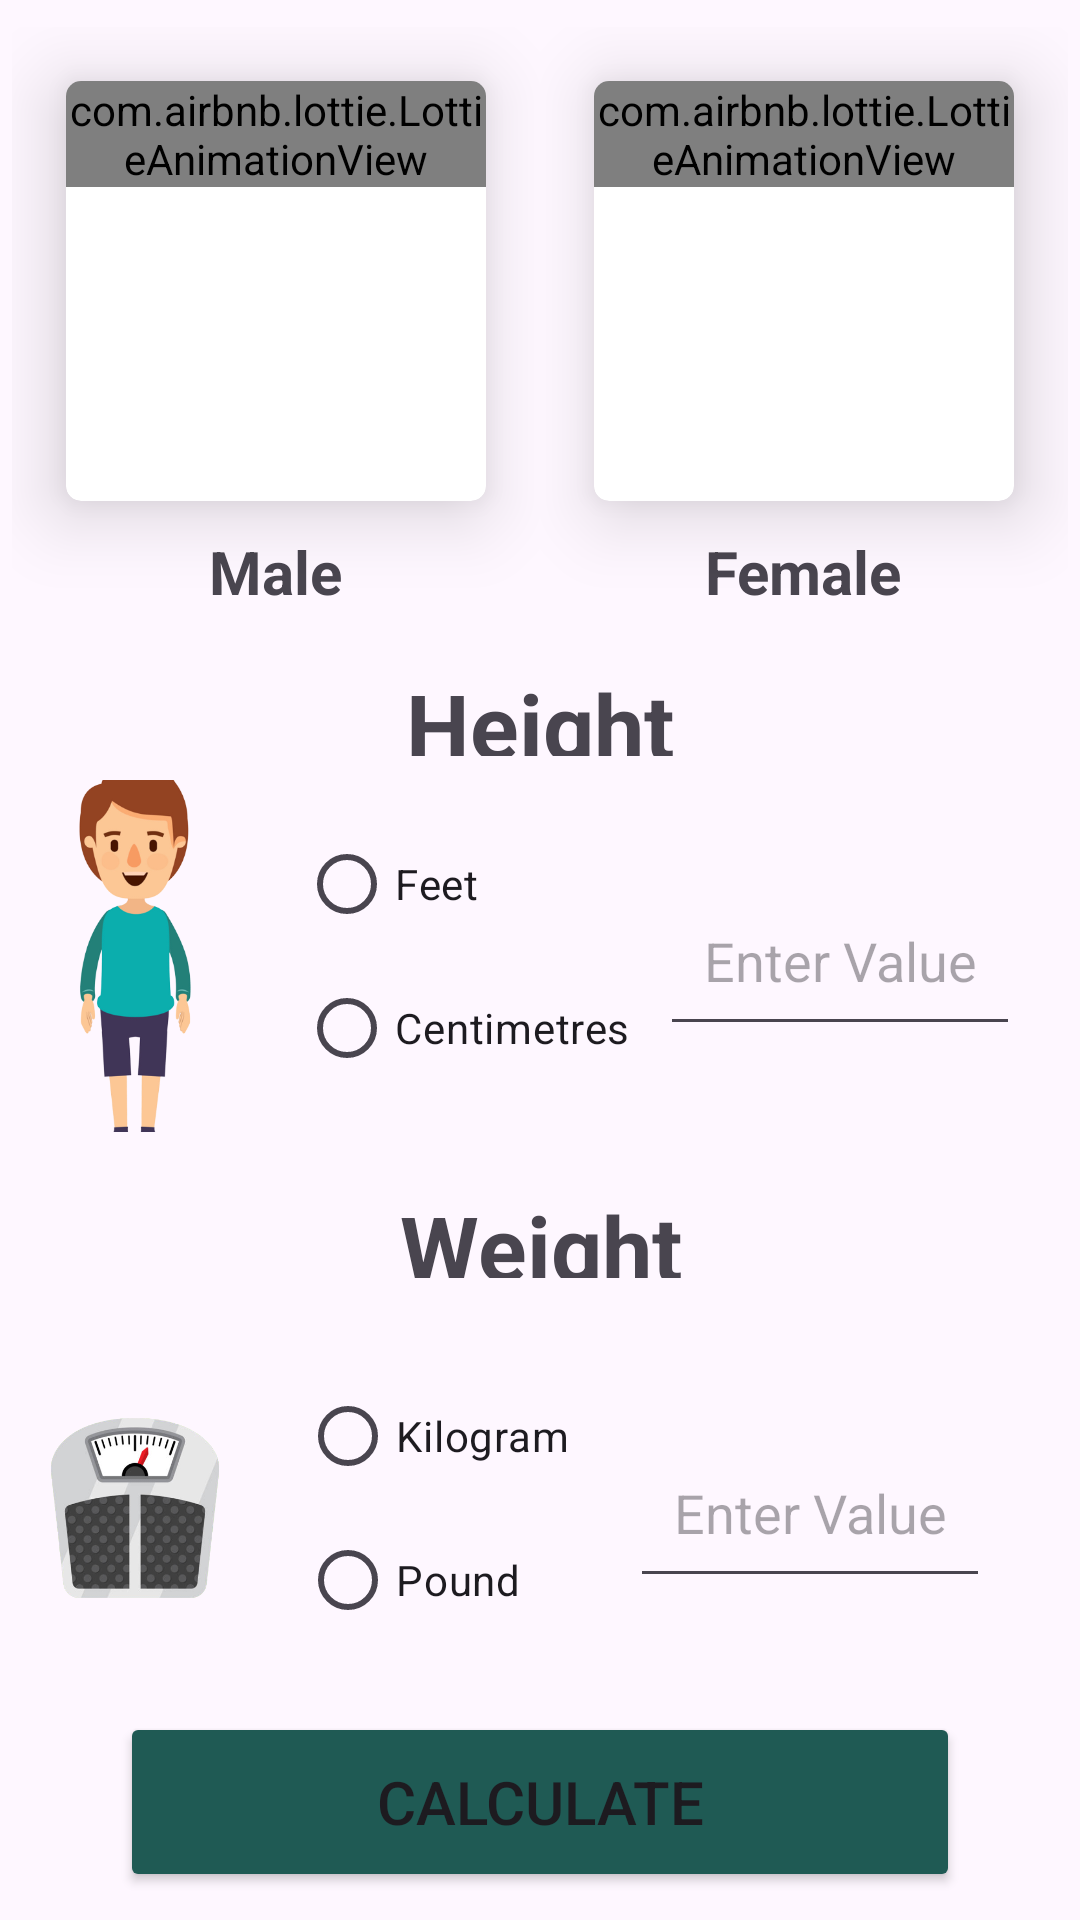

Screen size 1080*1920. Icon name, then its box in pixels as (x1, y1, x2, y2):
male pic: (79, 780, 191, 1132)
